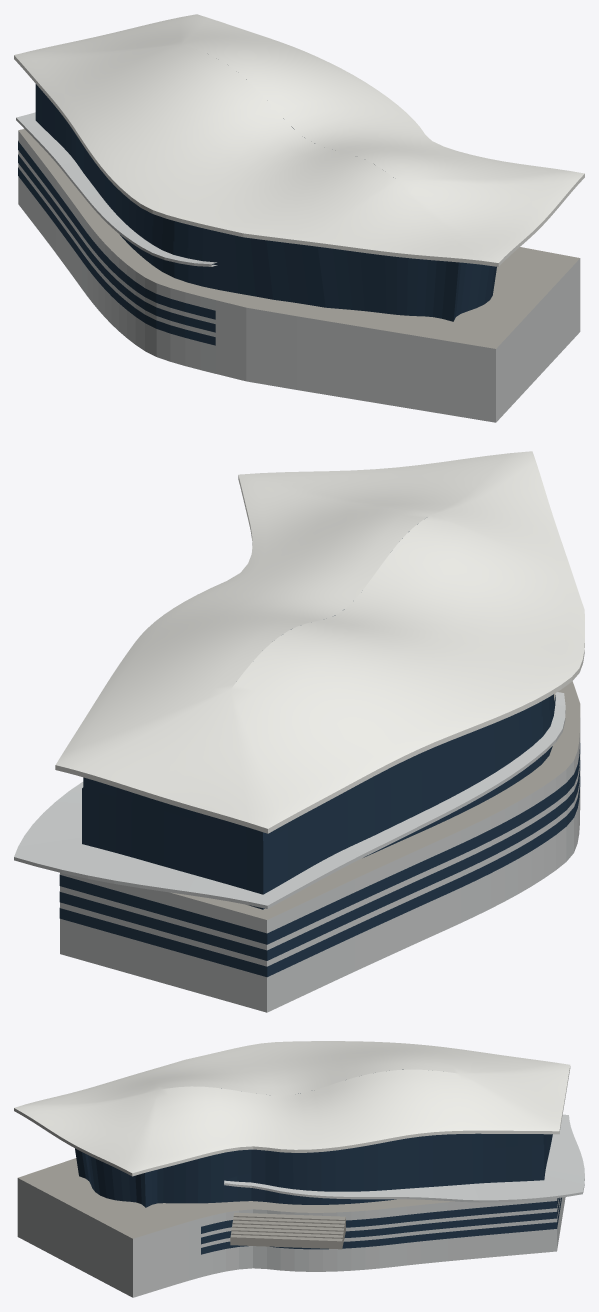
The model's file is opera.lod.glb.
3 views of the same model, one above another, from view 1: azimuth 30°, elevation 25°; view 2: azimuth 150°, elevation 25°; view 3: azimuth 270°, elevation 25° (orthographic). The views are drawn at different scales.
Parts seen in each view (by area): view 1: opera_roof_s, opera_wall2, opera_glass, opera_stone, opera_roof; view 2: opera_roof_s, opera_glass, opera_wall2, opera_stone, opera_roof; view 3: opera_roof_s, opera_wall2, opera_glass, opera_stone, opera_roof.
Boxes of the visible parts, x1=… form: opera_roof_s: x1=14, y1=14, x2=584, y2=262; opera_wall2: x1=16, y1=112, x2=580, y2=422; opera_glass: x1=18, y1=79, x2=496, y2=345; opera_stone: x1=18, y1=129, x2=579, y2=348; opera_roof: x1=14, y1=55, x2=584, y2=266; opera_roof_s: x1=56, y1=451, x2=584, y2=828; opera_glass: x1=59, y1=524, x2=580, y2=977; opera_wall2: x1=14, y1=692, x2=580, y2=1012; opera_stone: x1=171, y1=681, x2=580, y2=919; opera_roof: x1=55, y1=475, x2=584, y2=833; opera_roof_s: x1=14, y1=1041, x2=570, y2=1173; opera_wall2: x1=17, y1=1114, x2=584, y2=1297; opera_glass: x1=75, y1=1069, x2=561, y2=1254; opera_stone: x1=18, y1=1158, x2=454, y2=1249; opera_roof: x1=14, y1=1066, x2=570, y2=1176.
Size of the model in its own units: 124 by 64.01 by 215.
